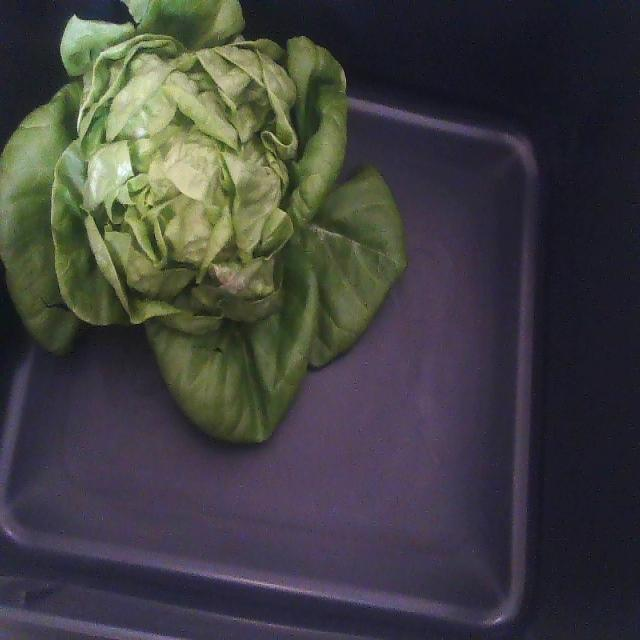lettuce: (0, 0, 405, 441)
